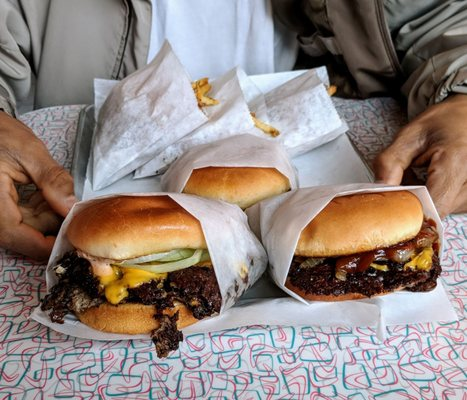soup: (41, 194, 223, 360), (284, 190, 441, 303)
